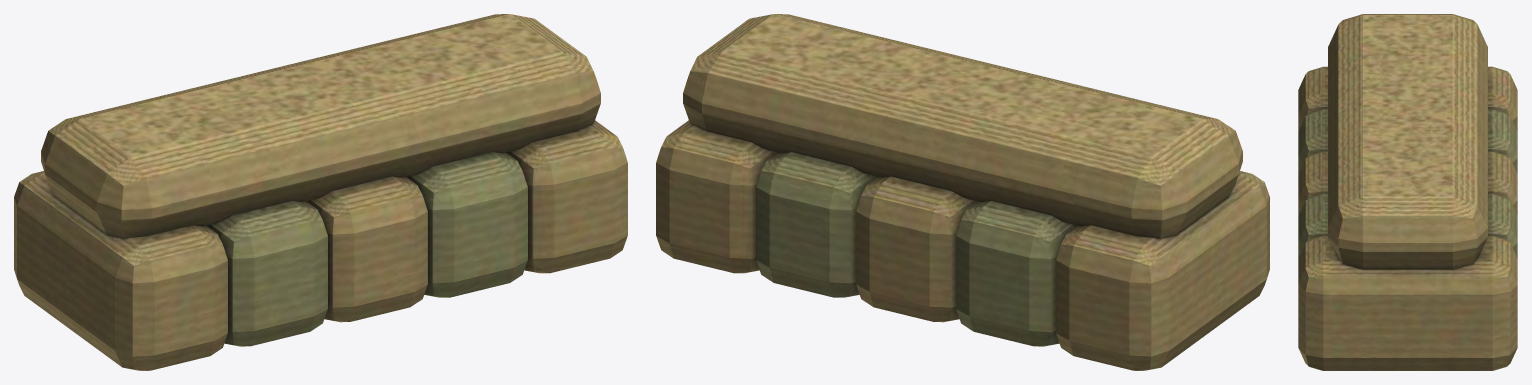
The model's file is fodderstack.glb.
The picture shows the model from 3 angles, left to right: view 1: azimuth 30°, elevation 25°; view 2: azimuth 150°, elevation 25°; view 3: azimuth 270°, elevation 25°; orthographic projection. The views are drawn at different scales.
Visible parts, largest first — view 1: fodderstack; view 2: fodderstack; view 3: fodderstack.
Boxes of the visible parts, <box> form: fodderstack: <box>14,14,627,370</box>; fodderstack: <box>656,14,1269,370</box>; fodderstack: <box>1298,14,1517,370</box>.
Size of the model in its own units: 5.1 by 1.85 by 2.2.
1 material, 1 textured.
